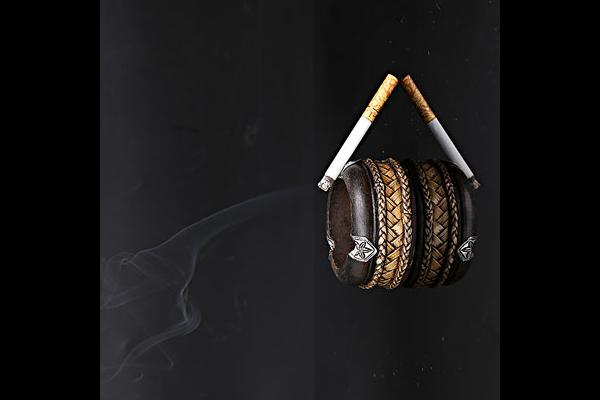Cigarette: (318, 75, 400, 192), (404, 77, 481, 190)
